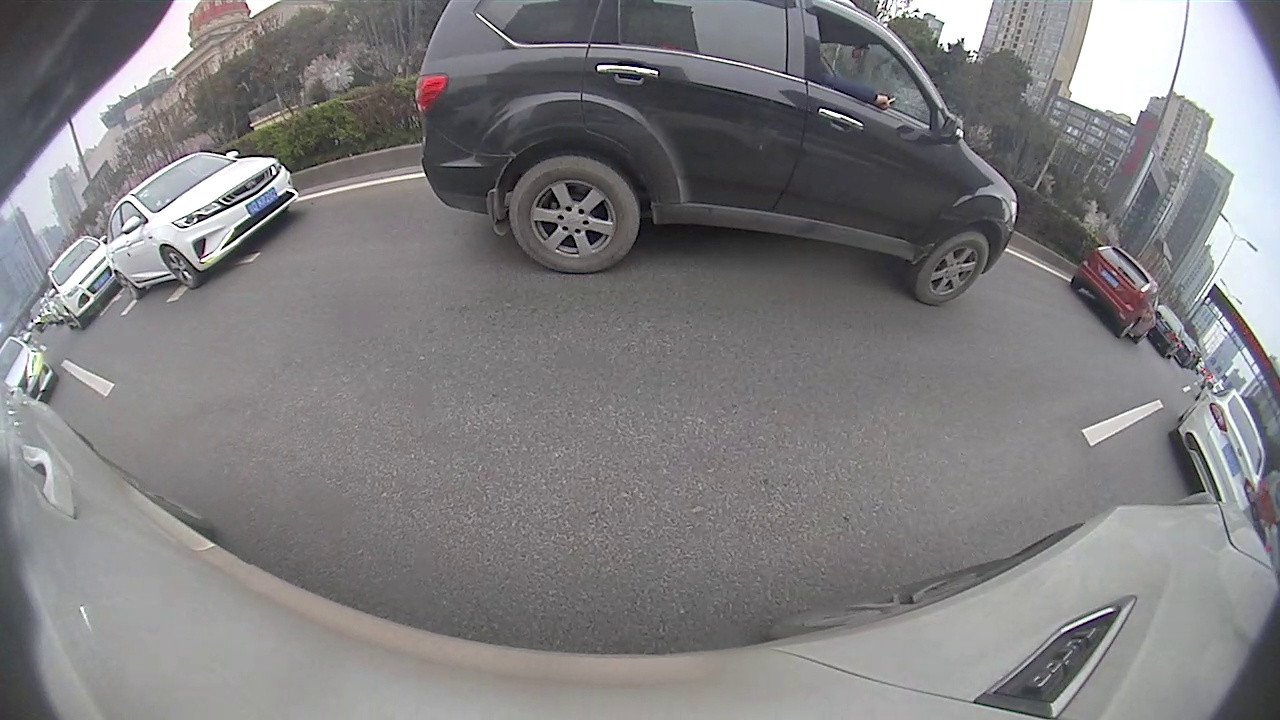car: (414, 2, 1020, 306), (106, 152, 301, 301), (1168, 388, 1268, 516), (1070, 245, 1160, 344), (45, 235, 124, 332), (0, 335, 59, 403), (1147, 305, 1188, 359)
front: (913, 230, 990, 305), (159, 243, 199, 293)
rear: (506, 153, 641, 276), (119, 273, 144, 301)
